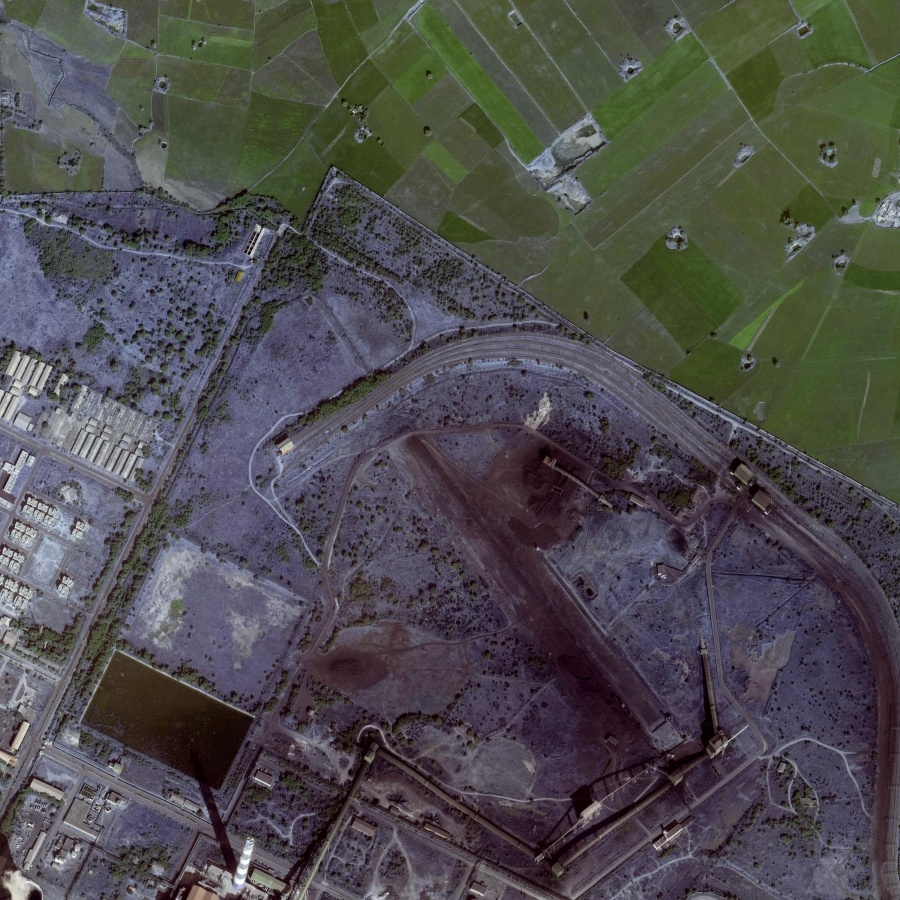PowerPlant: (365, 401, 691, 797)
